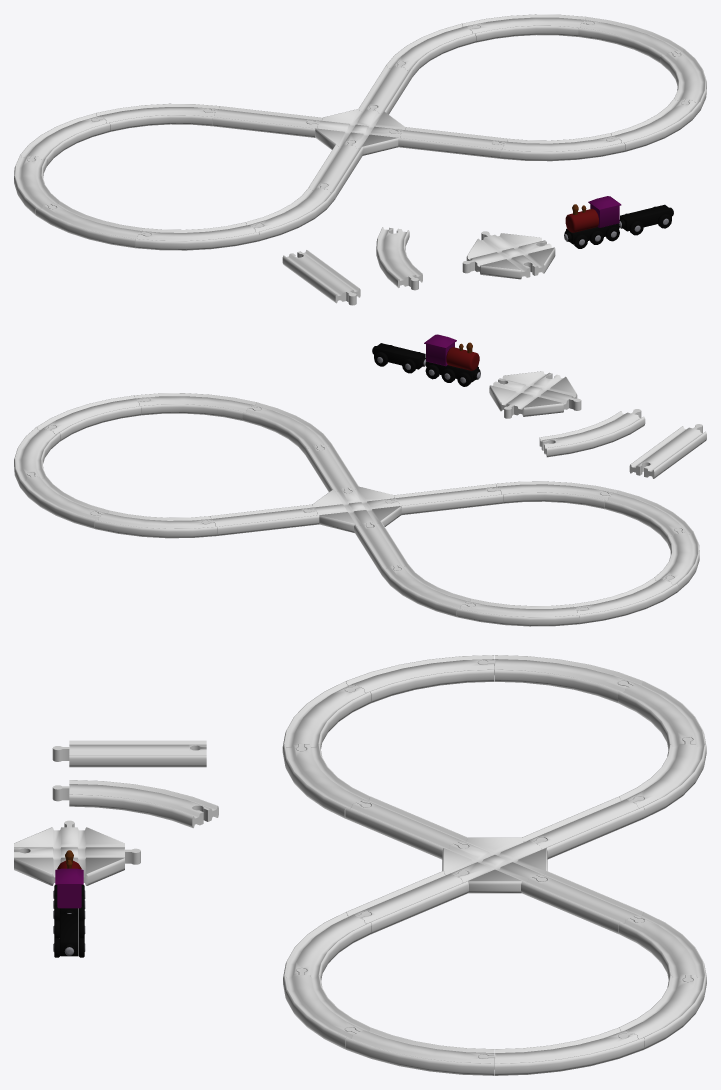
The model's file is WoodenTrainSetFree.fbx.
3 renders of one model, top to bottom at view 1: azimuth 30°, elevation 25°; view 2: azimuth 150°, elevation 25°; view 3: azimuth 270°, elevation 25°, orthographic. The views are drawn at different scales.
Visible parts, largest first — view 1: CompleteTrack1, Cross_Track, Train_Complete, Straight_Track, Curved_Track; view 2: CompleteTrack1, Cross_Track, Train_Complete, Curved_Track, Straight_Track; view 3: CompleteTrack1, Cross_Track, Curved_Track, Straight_Track, Train_Complete.
Part boxes in pixels (x1=…): CompleteTrack1: x1=14, y1=14, x2=706, y2=250; Cross_Track: x1=462, y1=231, x2=555, y2=279; Train_Complete: x1=564, y1=196, x2=673, y2=248; Straight_Track: x1=282, y1=250, x2=360, y2=305; Curved_Track: x1=376, y1=227, x2=422, y2=290; CompleteTrack1: x1=14, y1=393, x2=699, y2=626; Cross_Track: x1=489, y1=371, x2=581, y2=418; Train_Complete: x1=372, y1=334, x2=480, y2=386; Curved_Track: x1=539, y1=409, x2=645, y2=457; Straight_Track: x1=629, y1=424, x2=706, y2=478; CompleteTrack1: x1=282, y1=655, x2=706, y2=1075; Cross_Track: x1=14, y1=820, x2=140, y2=885; Curved_Track: x1=52, y1=780, x2=218, y2=828; Straight_Track: x1=52, y1=740, x2=206, y2=767; Train_Complete: x1=53, y1=850, x2=85, y2=957.
Bounding box in the file's own units: 108 × 6.39 × 77.24.
